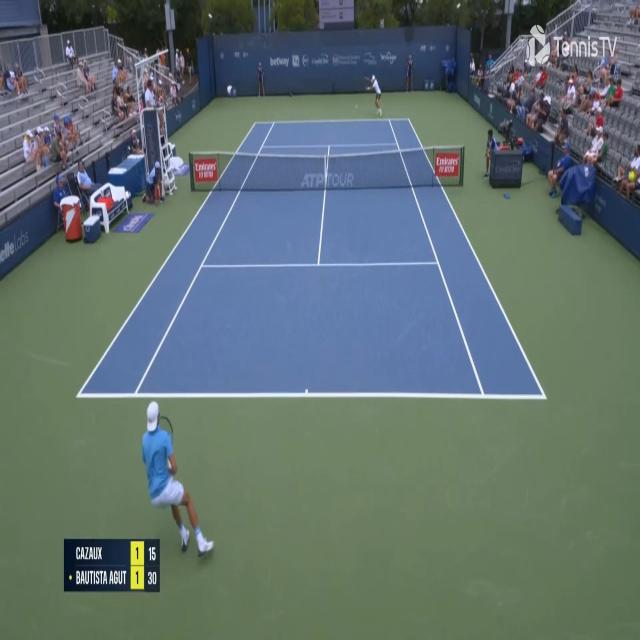tennis-player: (142, 362, 214, 560), (364, 73, 382, 117)
